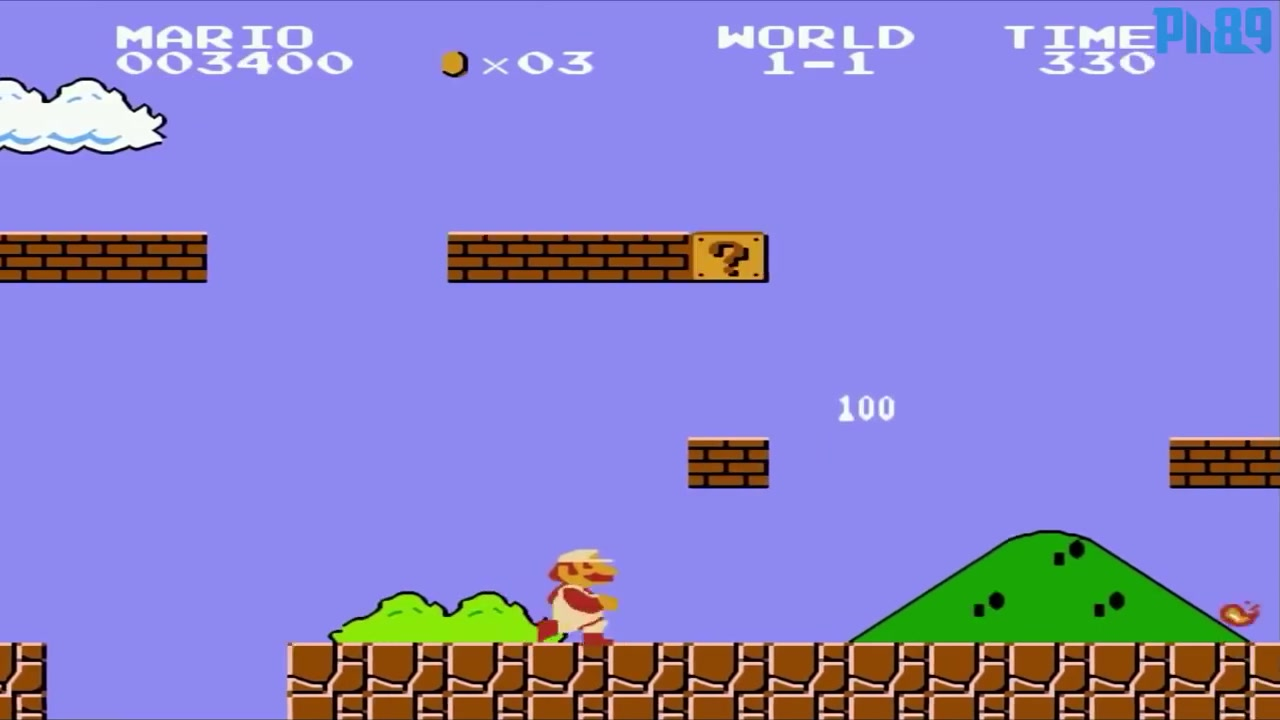mario: (527, 549, 629, 662)
